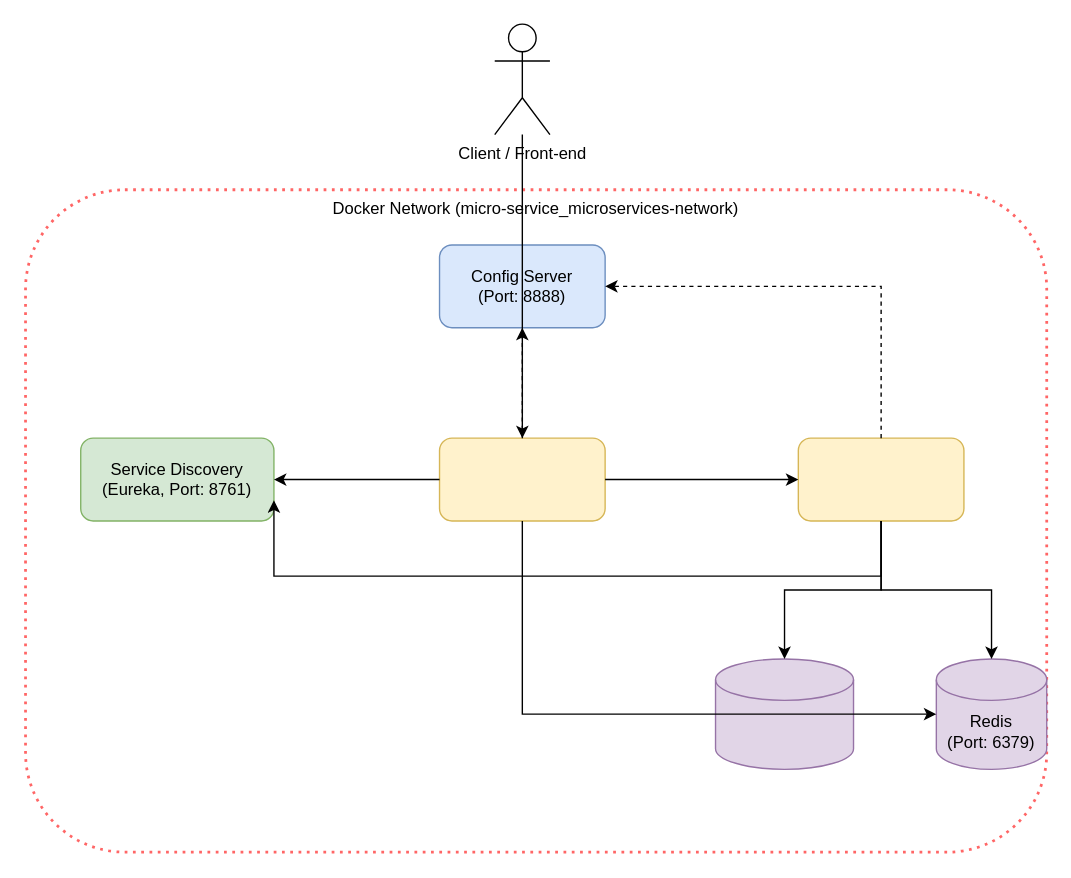
Some shapes in this 1071 by 878 pixel diagram are drawn without their labels. Each missing label, with the centre of its shape:
API Gateway (Port: 8080): [521,479]
Auth Service (Port: 8081): [880,479]
PostgreSQL (Port: 5432): [784,713]
